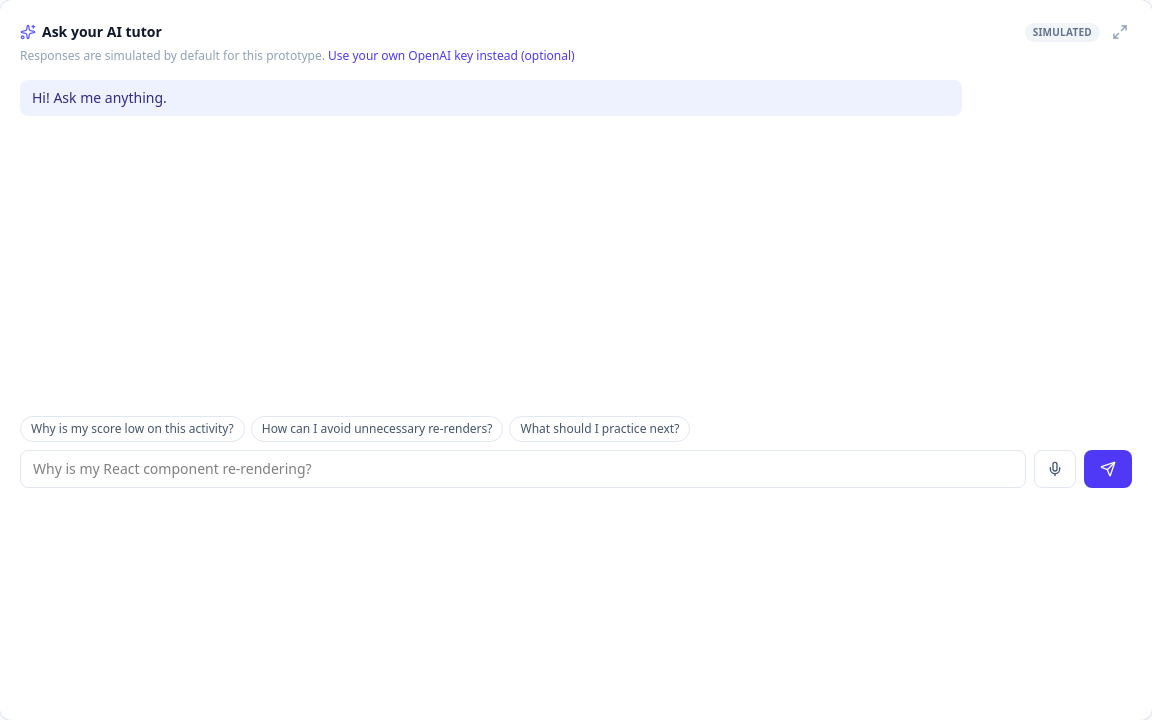
Scenario: AiTutorChat › fills the input when a quick-prompt pill is clicked, without sending it
Click the button "Why is my score low on this activity?". click: (132, 429)
box: [20,416,245,442]
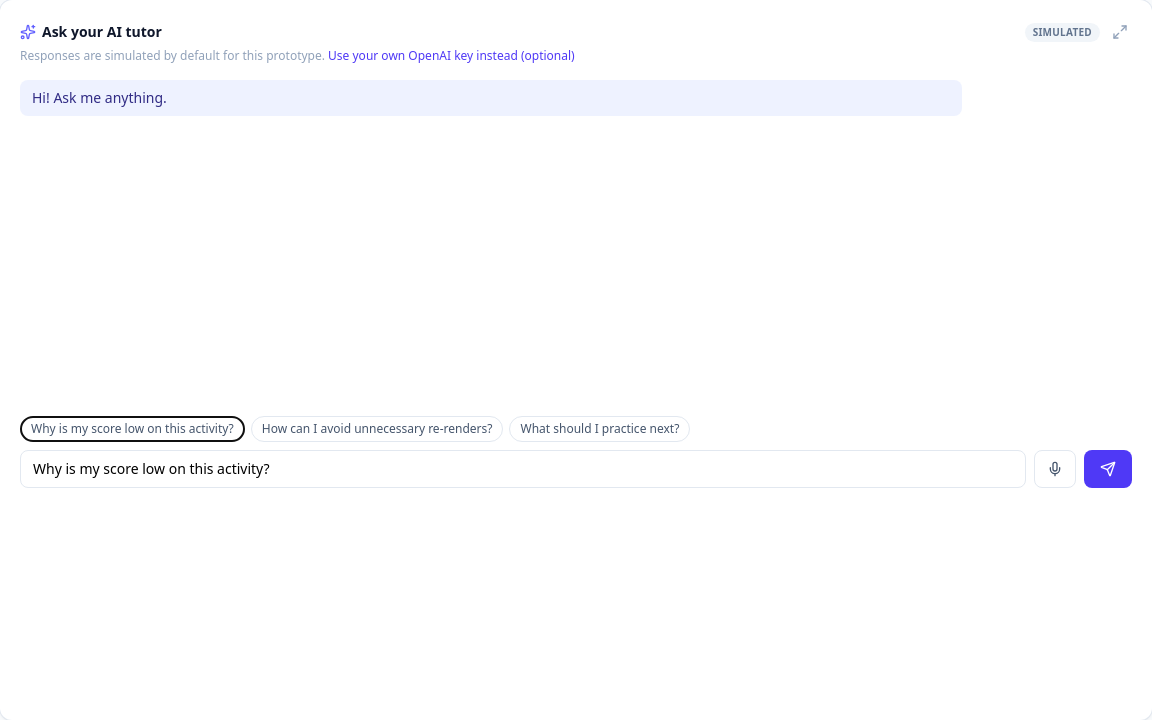
Now the field named "Ask a question" holds "Why is my score low on this activity?", box [20,450,1026,488]
